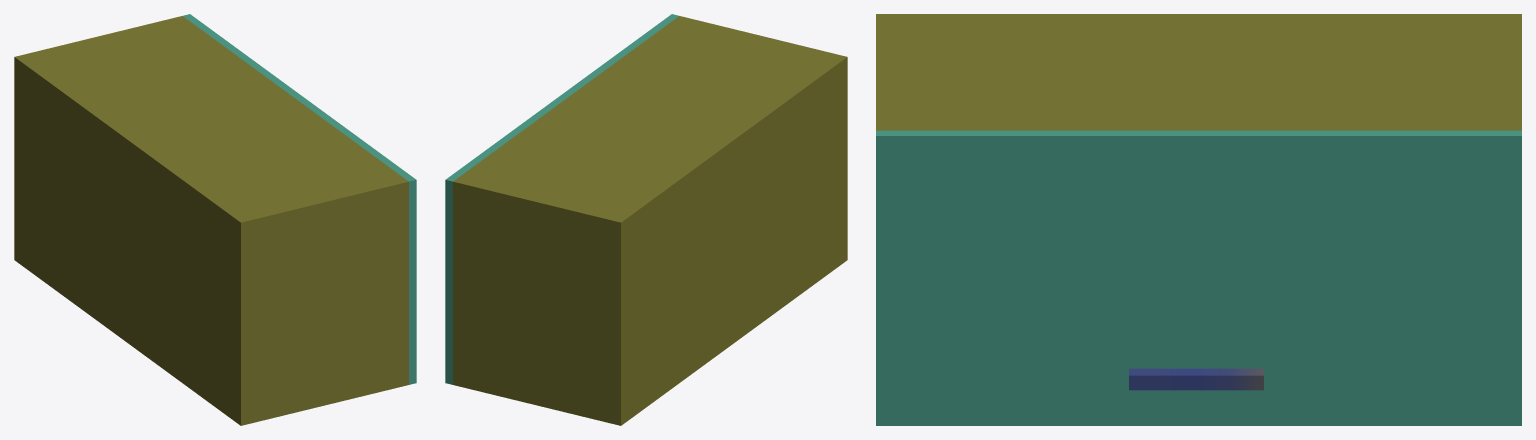
File: Kitchen_Cabinet4.fbx
The picture shows the model from 3 angles, left to right: view 1: azimuth 30°, elevation 25°; view 2: azimuth 150°, elevation 25°; view 3: azimuth 270°, elevation 25°; orthographic projection. The views are drawn at different scales.
Visible parts, largest first — view 1: Kitchen_Cabinet4; view 2: Kitchen_Cabinet4; view 3: Kitchen_Cabinet4.
Part boxes in pixels (x1,y1,x2,y2): Kitchen_Cabinet4: (14,14,416,425); Kitchen_Cabinet4: (445,14,847,425); Kitchen_Cabinet4: (876,14,1521,425).
Bounding box in the file's own units: 57.1 × 59.82 × 121.
